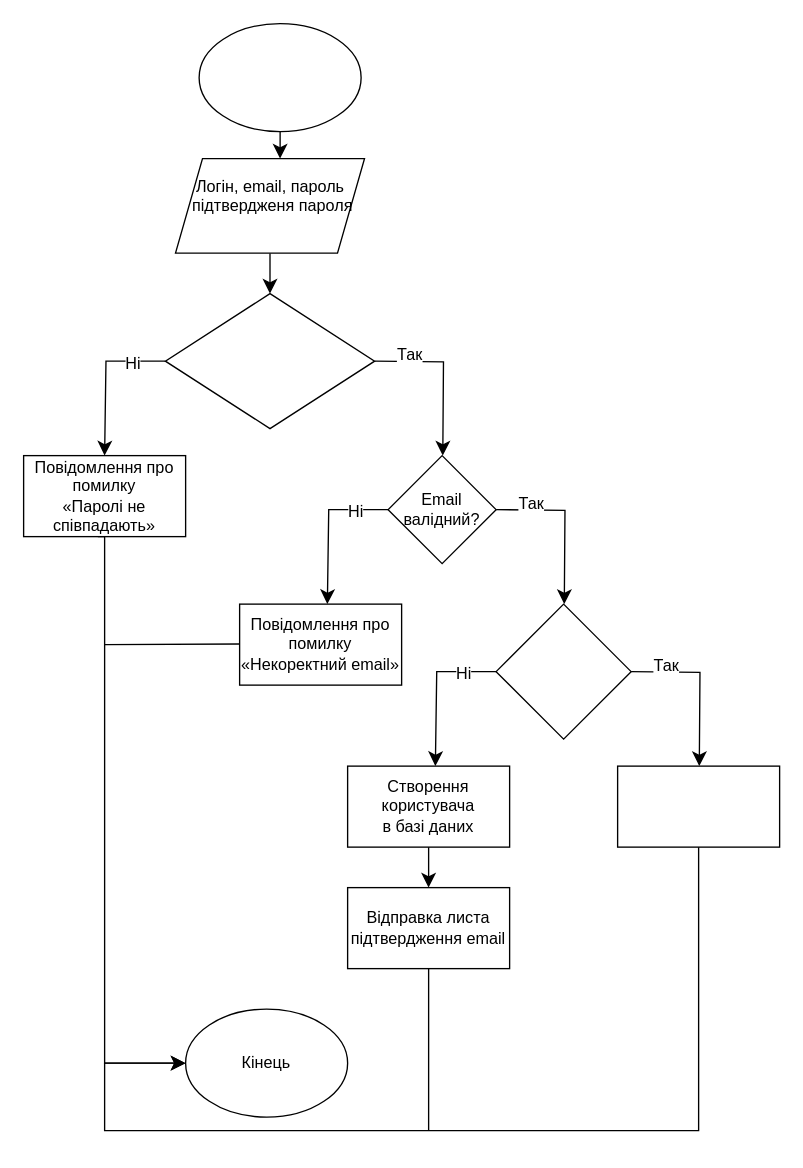
This 803x1168 diagram has some shape labels left out. The box of each missing label's shape, as (x1, y1, x2, y2) in pixels:
Користувач з таким email існує?: (495, 603, 631, 739)
паролі співпадають?: (164, 292, 375, 429)
Повідомлення про помилку «Email вже використовується»: (616, 765, 780, 847)
Початок: (198, 22, 361, 132)
